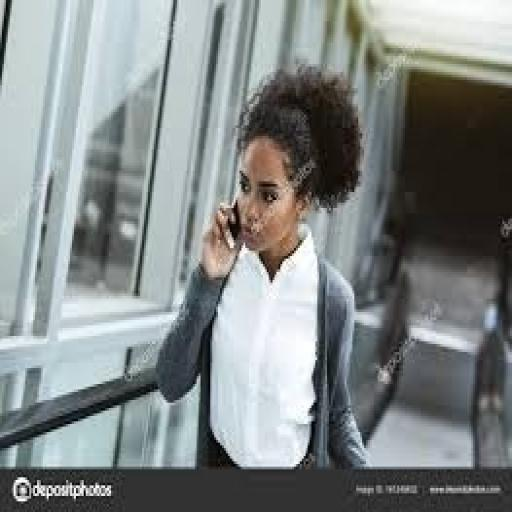calling: (154, 62, 372, 470)
